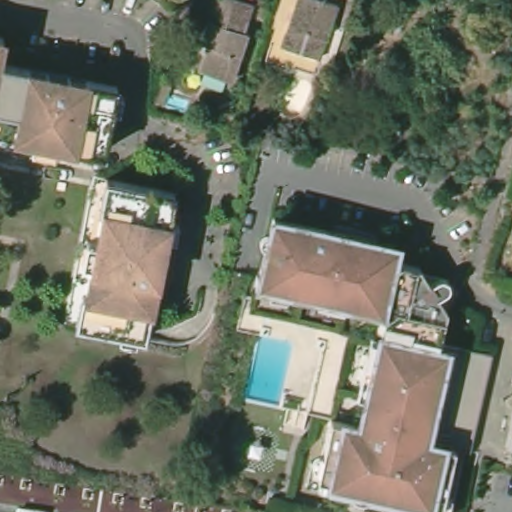pool: (246, 331, 293, 410), (161, 91, 197, 113)
